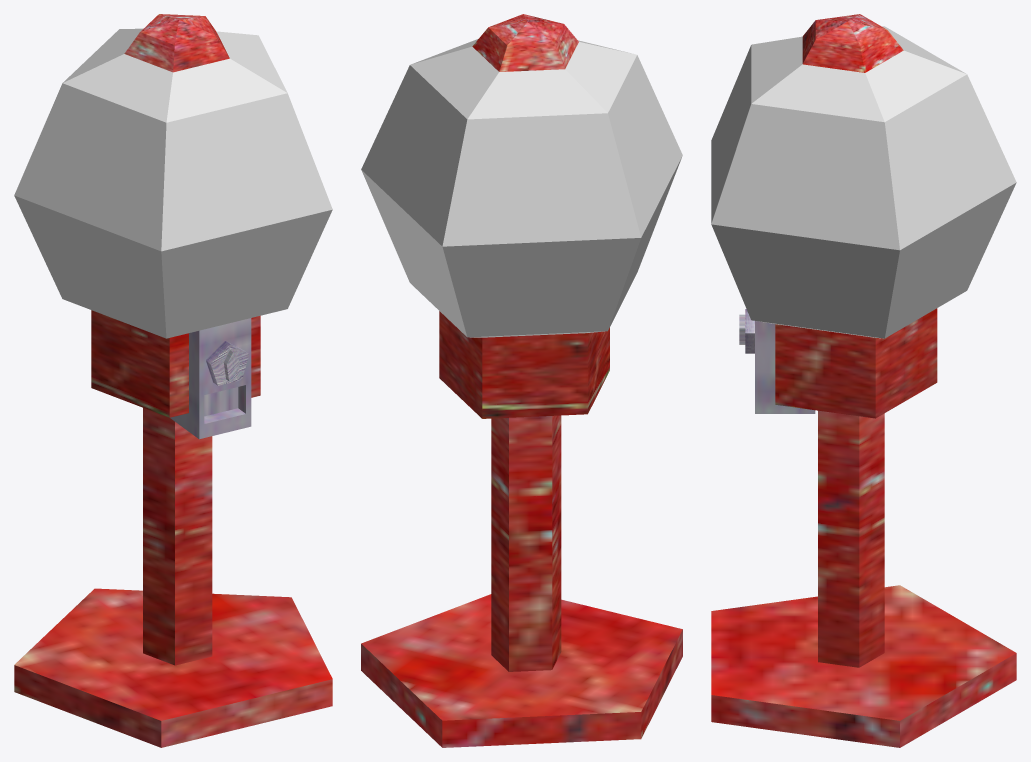
The model's file is Gumball.fbx.
The picture shows the model from 3 angles, left to right: view 1: azimuth 30°, elevation 25°; view 2: azimuth 150°, elevation 25°; view 3: azimuth 270°, elevation 25°; orthographic projection.
Parts seen in each view (by area): view 1: Sphere, Cylinder, Cube, Sphere.001, Cylinder.002; view 2: Sphere, Cylinder, Sphere.001; view 3: Sphere, Cylinder, Sphere.001, Cube, Cylinder.002.
Boxes of the visible parts, <box> form: Sphere: <box>14,28,332,338</box>; Cylinder: <box>14,310,332,747</box>; Cube: <box>170,318,251,439</box>; Sphere.001: <box>124,14,229,72</box>; Cylinder.002: <box>206,341,249,385</box>; Sphere: <box>361,39,682,337</box>; Cylinder: <box>361,311,682,747</box>; Sphere.001: <box>472,14,578,71</box>; Sphere: <box>711,26,1016,338</box>; Cylinder: <box>711,308,1016,747</box>; Sphere.001: <box>802,14,903,72</box>; Cube: <box>755,321,815,413</box>; Cylinder.002: <box>739,309,754,353</box>.
Size of the model in its own units: 190 by 431 by 181.
